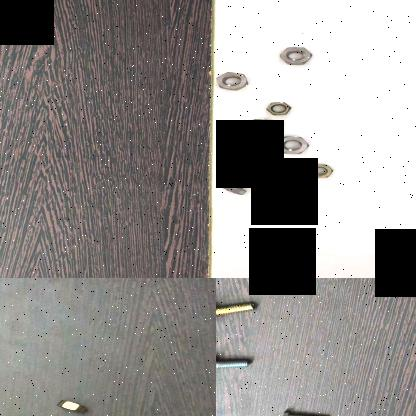Bolts: (216, 167, 263, 196), (216, 350, 256, 377), (216, 298, 258, 320), (216, 151, 237, 179), (279, 409, 329, 416)
NUTS: (240, 115, 284, 140), (54, 396, 94, 416), (277, 44, 311, 67), (273, 135, 309, 155), (216, 70, 246, 91), (262, 100, 292, 118), (302, 164, 334, 180)
